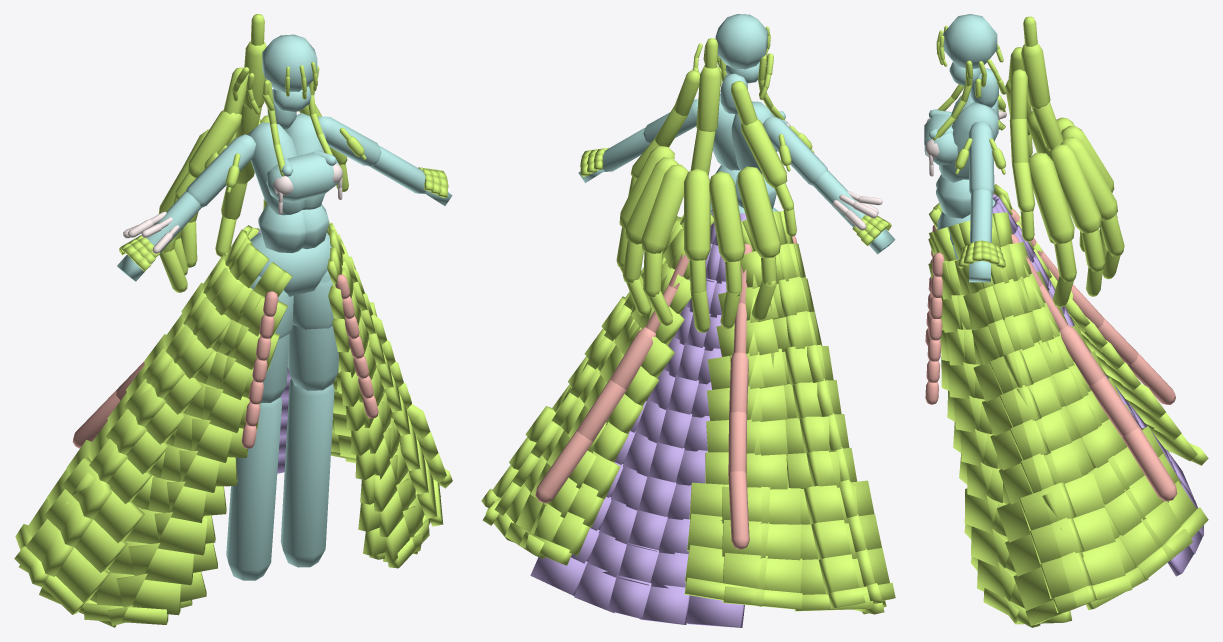
The model's file is Raiden-Mei-HoO_RigidBodyWorld.fbx.
3 renders of one model, left to right at view 1: azimuth 30°, elevation 25°; view 2: azimuth 150°, elevation 25°; view 3: azimuth 270°, elevation 25°, orthographic. The views are drawn at different scales.
Visible parts, largest first — view 1: 00G_左ひざ, 00E_右ひざ, 00F_左足, 00A_頭_1, 00C_下半身, 06L_zq__84, 063_zq__66, 06D_zq__76, 00W_上半身2, 065_zq__68, 001_上半身2_1, 06J_zq__82 (+59 smaller); view 2: 022_Bone_Mei_C6_Hair_BR01_01, 06O_zq__87, 00A_頭_1, 01W_Bone_Mei_C6_Hair_BR03_01, 01Z_Bone_Mei_C6_Hair_BR02_01, 025_Bone_Mei_C6_Hair_BL03_01, 06G_zq__79, 068_zq__71, 06E_zq__77, 066_zq__69, 06M_zq__85, 003_右腕 (+90 smaller); view 3: 02B_Bone_Mei_C6_Hair_BL01_01, 028_Bone_Mei_C6_Hair_BL02_01, 00A_頭_1, 09M_yq_10_4, 09E_yq_9_4, 096_yq_8_4, 09L_yq_10_3, 09O_yq_10_6, 09D_yq_9_3, 09G_yq_9_6, 0A9_Bone_Mei_C6_SkirtCrysta_LB_05, 006_左腕 (+81 smaller).
Boxes of the visible parts, x1,y1,x2,y2 form: 00G_左ひざ: (280,378,334,567); 00E_右ひざ: (226,396,282,580); 00F_左足: (287,271,338,390); 00A_頭_1: (262,34,317,92); 00C_下半身: (250,232,332,296); 06L_zq__84: (26,519,109,602); 063_zq__66: (124,508,207,555); 06D_zq__76: (43,489,127,572); 00W_上半身2: (266,152,339,202); 065_zq__68: (61,457,144,543); 001_上半身2_1: (248,122,304,215); 06J_zq__82: (97,571,180,615); 022_Bone_Mei_C6_Hair_BR01_01: (737,166,780,257); 06O_zq__87: (722,553,802,592); 00A_頭_1: (715,14,767,69); 01W_Bone_Mei_C6_Hair_BR03_01: (684,168,710,260); 01Z_Bone_Mei_C6_Hair_BR02_01: (709,171,745,261); 025_Bone_Mei_C6_Hair_BL03_01: (641,164,688,253); 06G_zq__79: (722,520,801,560); 068_zq__71: (722,486,800,524); 06E_zq__77: (811,514,881,559); 066_zq__69: (804,480,874,524); 06M_zq__85: (818,548,889,594); 003_右腕: (762,116,827,185); 02B_Bone_Mei_C6_Hair_BL01_01: (1029,152,1074,244); 028_Bone_Mei_C6_Hair_BL02_01: (1049,144,1101,233); 00A_頭_1: (943,14,997,68); 09M_yq_10_4: (1040,542,1125,598); 09E_yq_9_4: (1029,507,1115,563); 096_yq_8_4: (1019,473,1104,530); 09L_yq_10_3: (1013,552,1092,610); 09O_yq_10_6: (1119,501,1181,566); 09D_yq_9_3: (1005,517,1084,576); 09G_yq_9_6: (1104,475,1168,536); 0A9_Bone_Mei_C6_SkirtCrysta_LB_05: (1122,427,1177,501); 006_左腕: (968,121,994,194).
Bounding box in the file's own units: 141 × 87.14 × 182.
